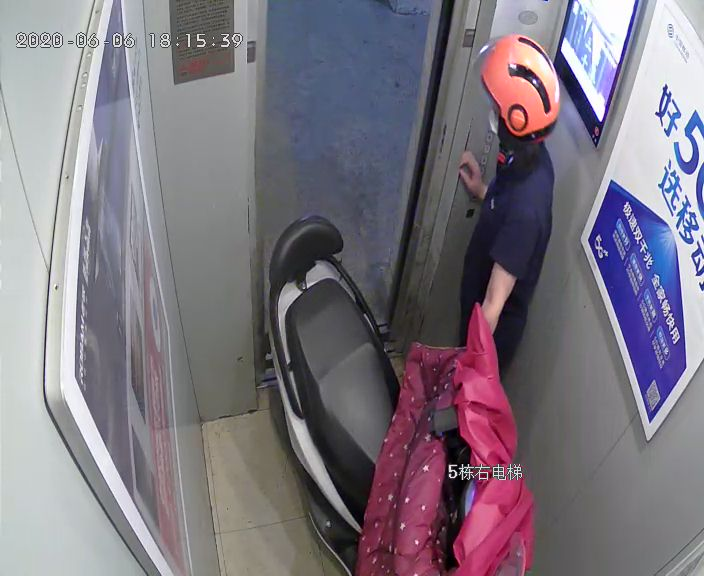Electric-bicycle: (268, 215, 529, 574)
